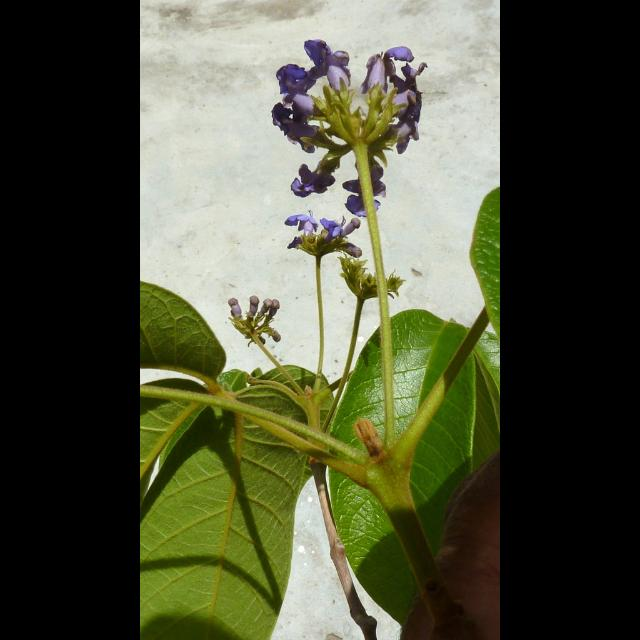Flower: (360, 44, 412, 100), (342, 156, 386, 222), (270, 98, 318, 154), (383, 62, 431, 116), (306, 36, 352, 92), (289, 160, 339, 198), (278, 64, 318, 100), (378, 117, 418, 153), (284, 209, 316, 239), (294, 95, 322, 123), (322, 214, 346, 242)
